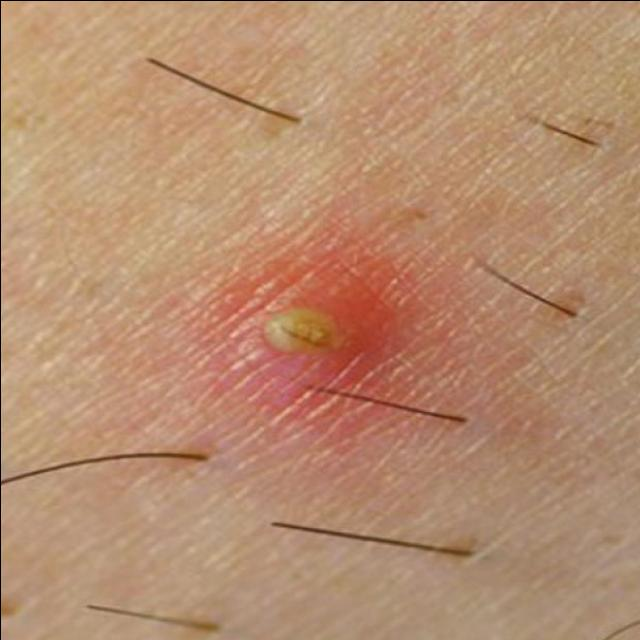pustule: (212, 264, 411, 404)
